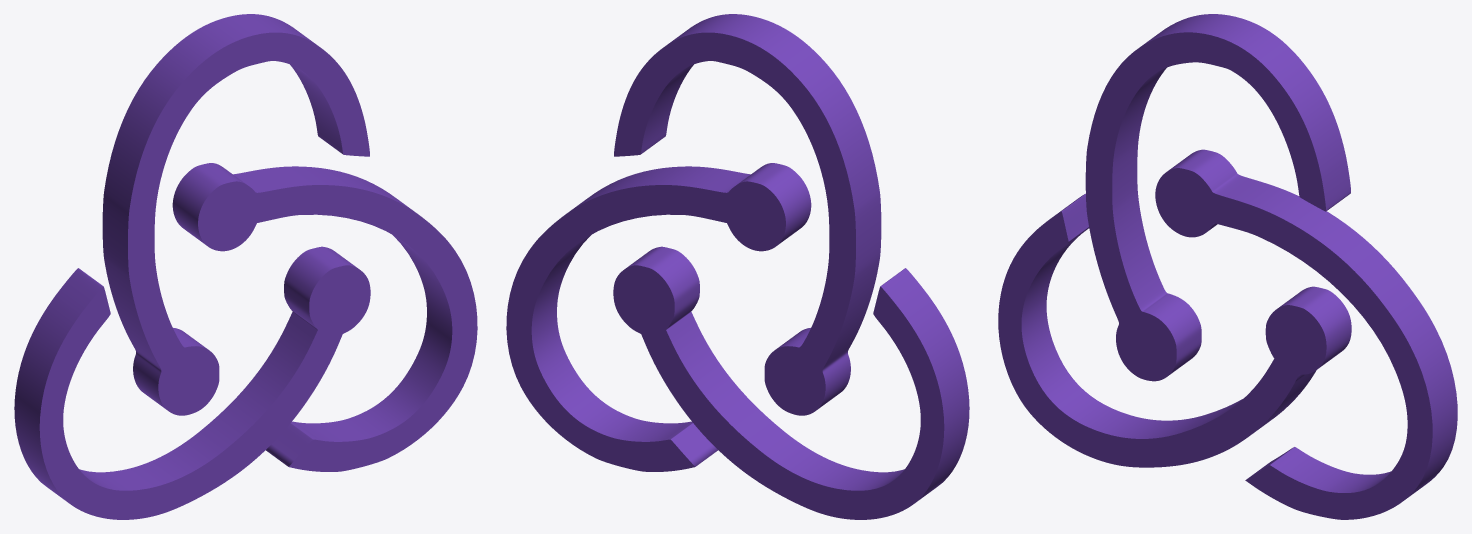
Rendered from Redux.glb.
3 renders of one model, left to right at view 1: azimuth 30°, elevation 25°; view 2: azimuth 150°, elevation 25°; view 3: azimuth 330°, elevation 25°, orthographic.
Parts seen in each view (by area): view 1: path2; view 2: path2; view 3: path2.
Part boxes in pixels (<box>): path2: <box>14,14,477,519</box>; path2: <box>506,14,969,519</box>; path2: <box>998,14,1457,519</box>.
Size of the model in its own units: 2 by 2 by 0.2.
